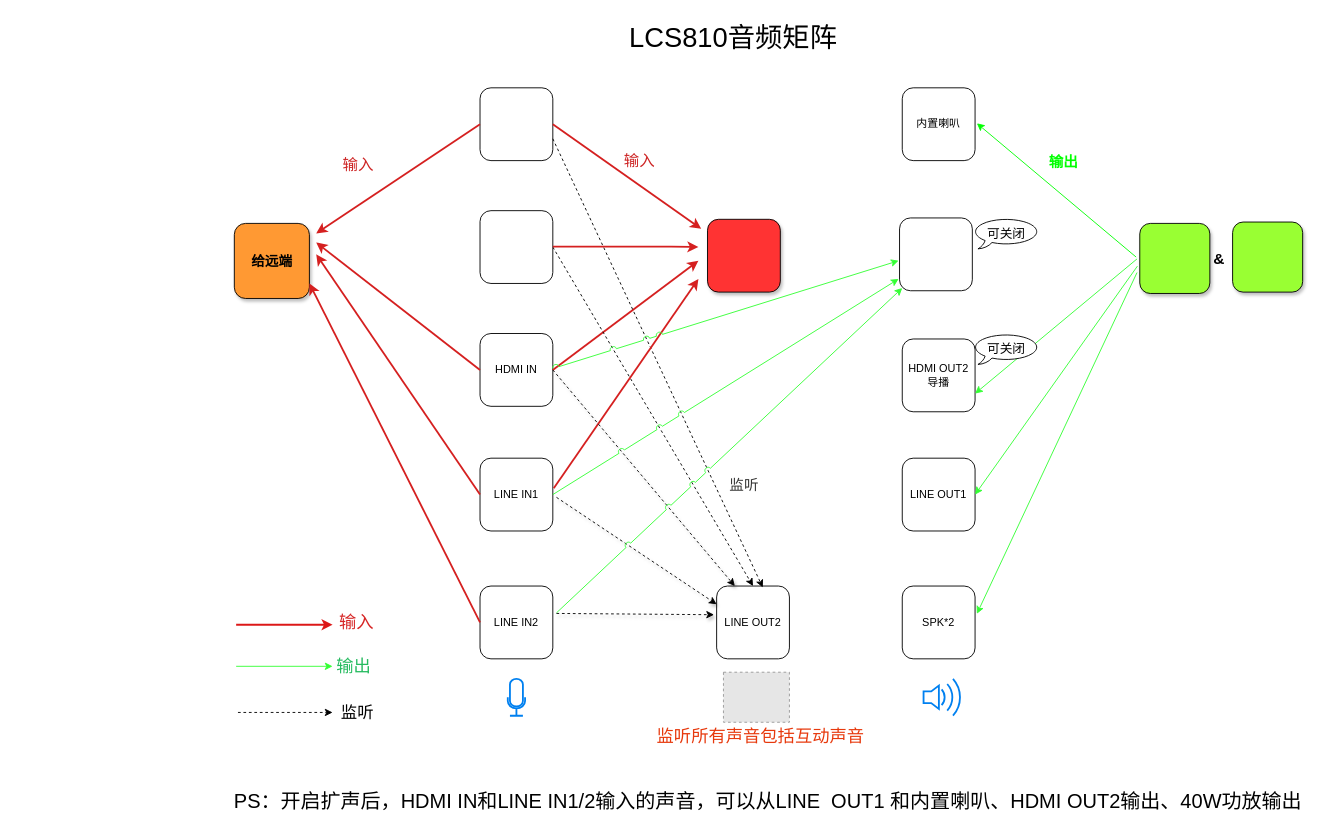
This 1324x831 diagram has some shape labels left out. Grey dashed boxes stand in for pictures. Here are the shapes that lost their labels. From the top down, the centre of each, then its label:
(516,124): 48V全向麦
(516,246): 远端输入 UVC- IN
(744,256): 录制和直播
(935,254): HDMI OUT1 电影
(1175,259): 本地回放
(1268,257): 远端输入 UVC-IN
